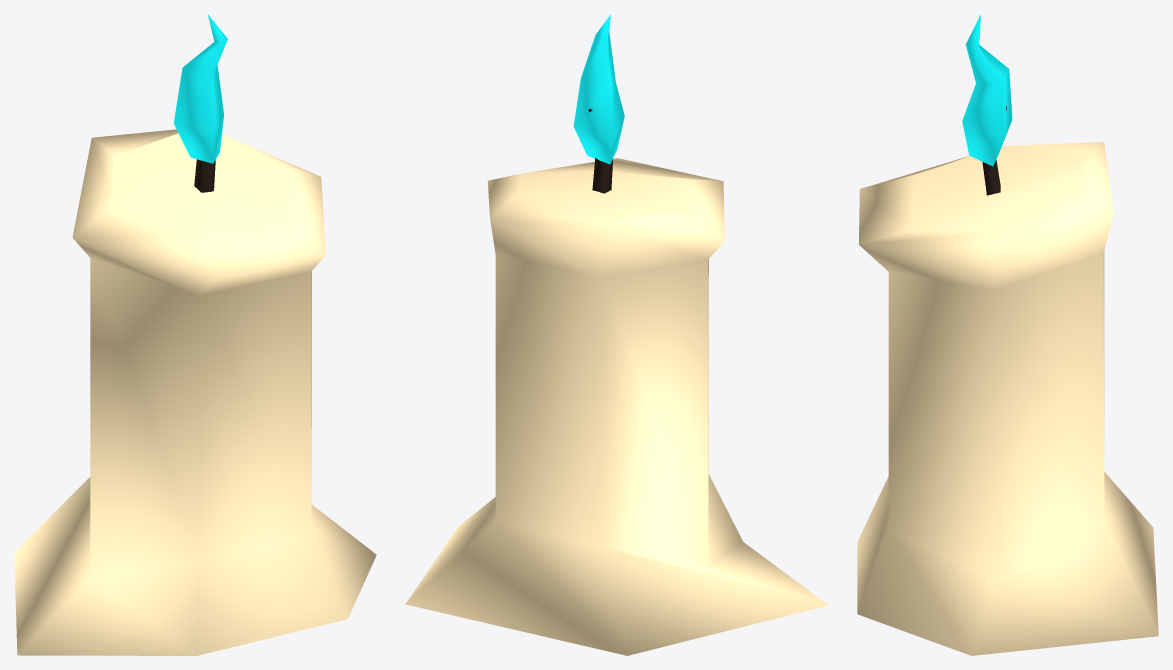
The model's file is CandleShapeD.038.glb.
3 views of the same model, side by side, from view 1: azimuth 30°, elevation 25°; view 2: azimuth 150°, elevation 25°; view 3: azimuth 270°, elevation 25° (orthographic). The views are drawn at different scales.
Parts seen in each view (by area): view 1: CandleShapeD.038; view 2: CandleShapeD.038; view 3: CandleShapeD.038.
Boxes of the visible parts, bbox=[...] form: CandleShapeD.038: bbox=[14, 15, 376, 655]; CandleShapeD.038: bbox=[405, 14, 828, 655]; CandleShapeD.038: bbox=[857, 14, 1158, 655].
Bounding box in the file's own units: 0.1822 × 0.2697 × 0.1308.
Materials: 2 (2 with a texture image).
